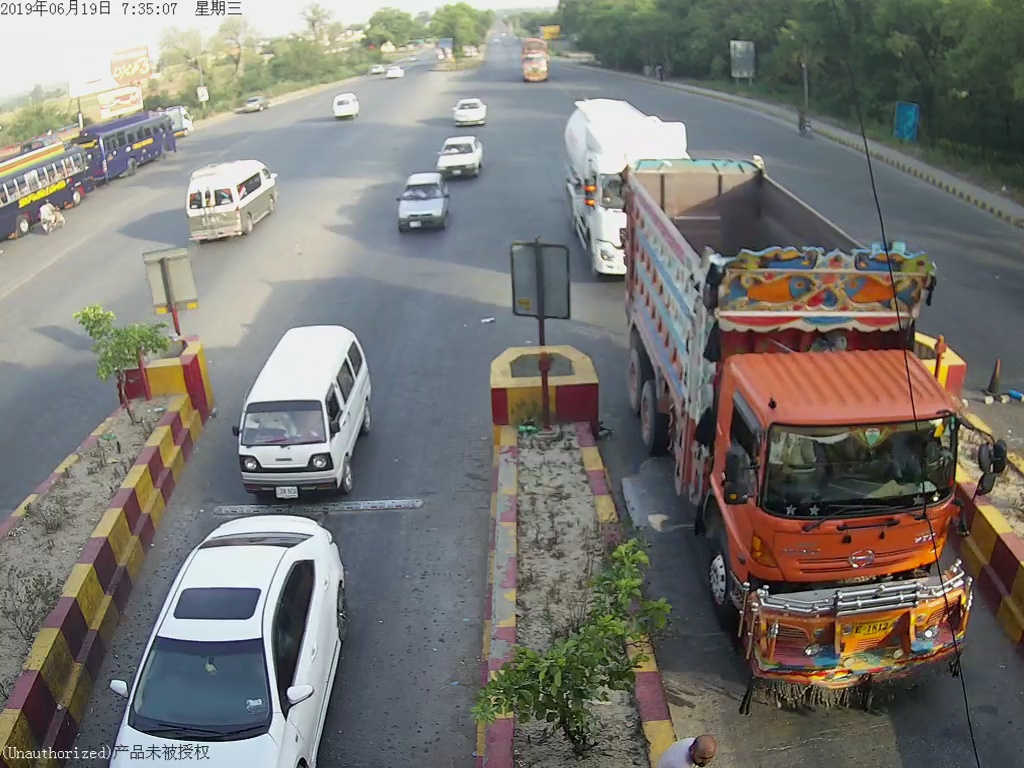Cat-1: (234, 318, 376, 505), (388, 178, 451, 232), (434, 139, 488, 173)
Cat-4: (658, 151, 978, 708)
